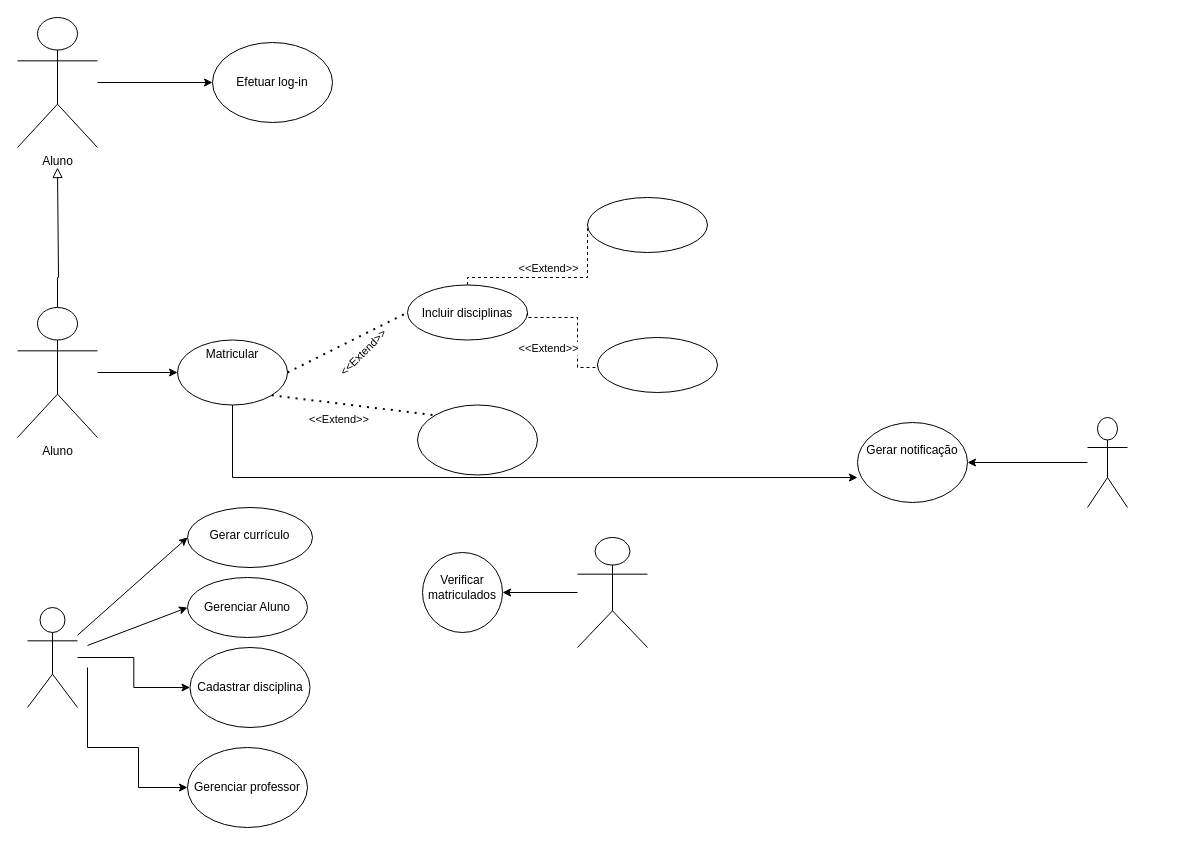
The diagram is 1181 pixels wide and 845 high, and some of its shapes have lost their labels. Here are the shapes that lost their labels. From the top down, the centre of each, then its label:
At pixel 647 224: "Incluir disciplinas obrigatórias".
At pixel 657 364: "Incluir disciplinas optativas".
At pixel 477 439: "Excluir disciplinas".
At pixel 1107 462: "Sistema de matricula".
At pixel 612 592: "Professor".
At pixel 52 657: "Secretaria".
